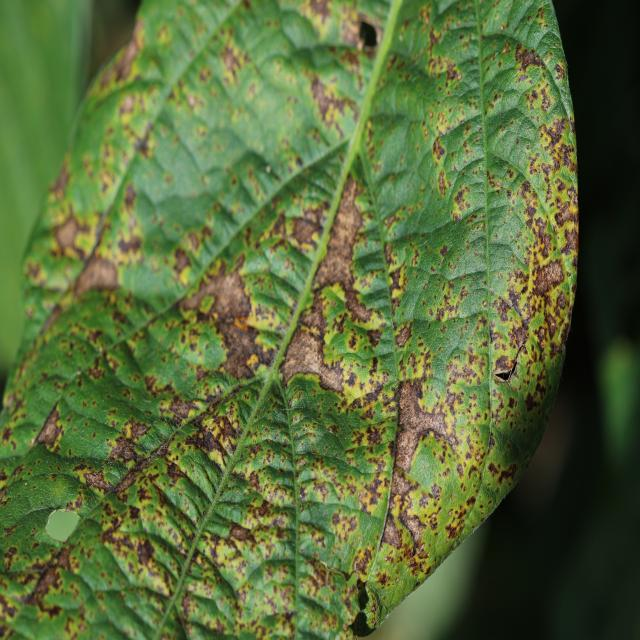Bacterial_Blight: (313, 180, 370, 288), (396, 377, 455, 465), (181, 261, 254, 319), (286, 0, 361, 48), (70, 249, 140, 300), (426, 84, 479, 143), (279, 328, 323, 388), (309, 74, 351, 128), (450, 175, 484, 221), (531, 257, 565, 297), (113, 34, 141, 82), (45, 509, 81, 543), (36, 405, 64, 448), (108, 432, 143, 465), (199, 423, 232, 458), (289, 213, 321, 249), (54, 215, 82, 255), (166, 397, 206, 425), (33, 564, 64, 598), (553, 195, 577, 230), (516, 46, 545, 73), (149, 434, 175, 463), (221, 43, 242, 77), (381, 515, 402, 548), (117, 231, 142, 256), (134, 129, 154, 159), (172, 247, 192, 275), (445, 515, 466, 541), (229, 522, 254, 543), (493, 296, 511, 324), (136, 537, 155, 563), (559, 142, 575, 169), (394, 323, 411, 348), (445, 62, 461, 84), (545, 313, 558, 339), (313, 480, 329, 499), (437, 170, 448, 197), (185, 91, 200, 110), (524, 391, 537, 412), (346, 371, 357, 387), (440, 244, 448, 256)
Soybean: (0, 2, 578, 638)
